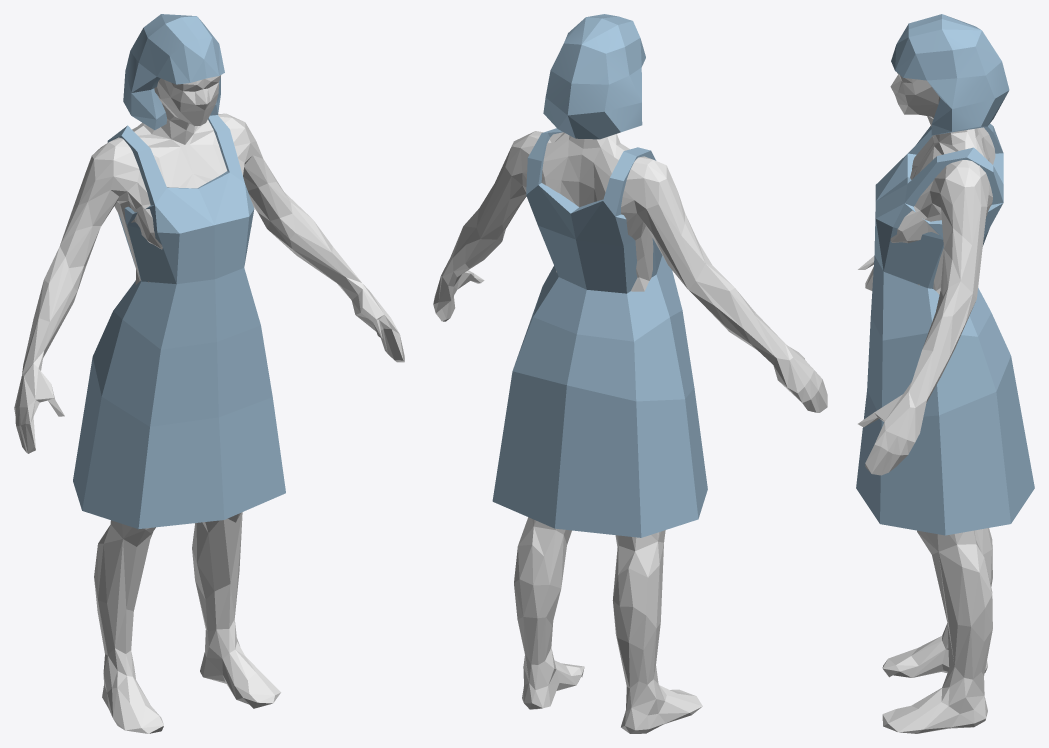
File: female.fbx
The picture shows the model from 3 angles, left to right: view 1: azimuth 30°, elevation 25°; view 2: azimuth 150°, elevation 25°; view 3: azimuth 270°, elevation 25°; orthographic projection.
Parts seen in each view (by area): view 1: polySurface43, polySurface39, polySurface37, polySurface38; view 2: polySurface43, polySurface39, polySurface37, polySurface38; view 3: polySurface43, polySurface39, polySurface37, polySurface38.
Boxes of the visible parts, x1,y1,x2,y2 form: polySurface43: (14, 14, 404, 733); polySurface39: (73, 115, 280, 523); polySurface37: (15, 75, 404, 733); polySurface38: (129, 14, 224, 129); polySurface43: (434, 16, 823, 733); polySurface39: (497, 128, 705, 537); polySurface37: (433, 131, 827, 733); polySurface38: (543, 14, 645, 139); polySurface43: (860, 18, 1019, 733); polySurface39: (856, 124, 1034, 509); polySurface37: (858, 74, 995, 730); polySurface38: (891, 14, 1009, 133).
Size of the model in its own units: 94.67 by 164 by 39.12.
